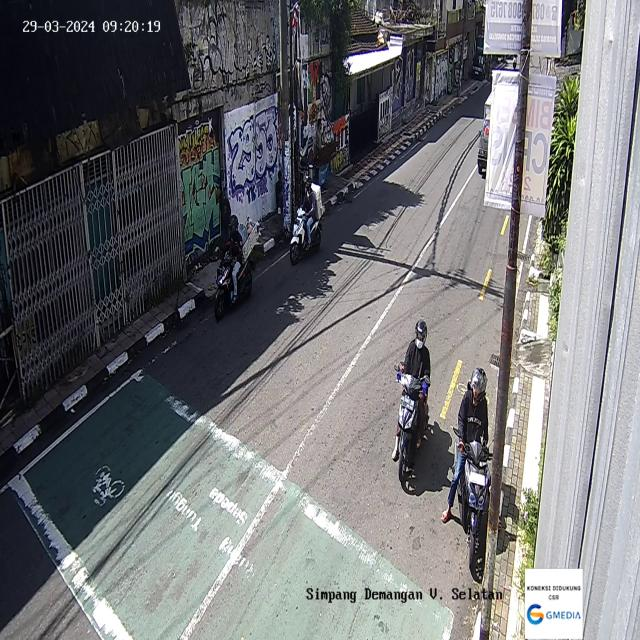motorcycle: (441, 370, 494, 584), (392, 318, 431, 494), (214, 214, 262, 322), (288, 172, 324, 266)
